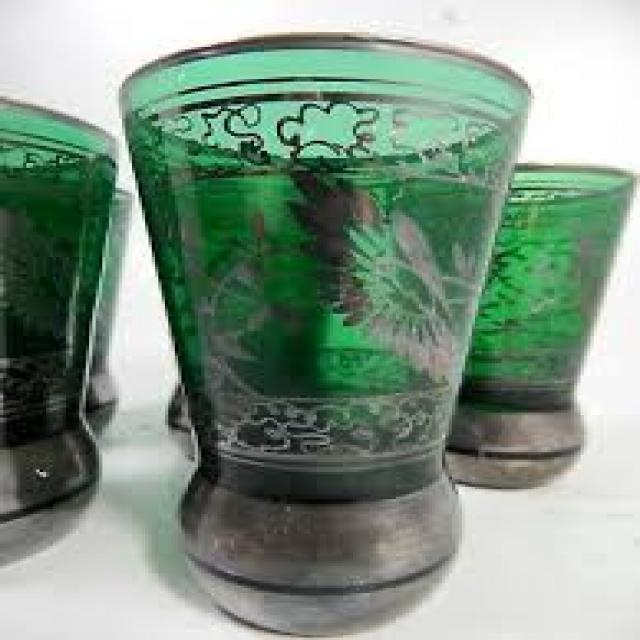Glass-Non-Biodegradable but Recyclable-: (116, 32, 534, 639)
